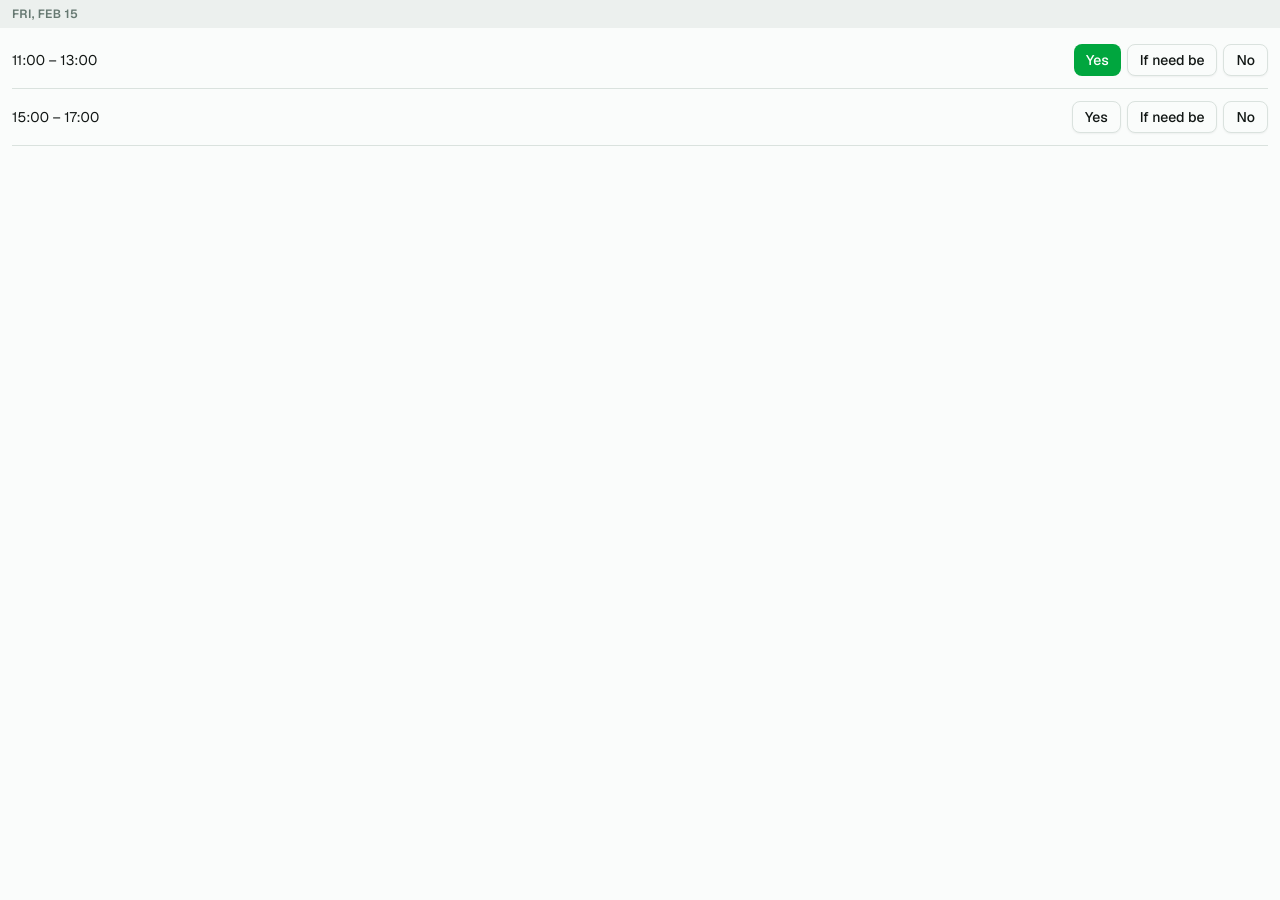
Test: AvailabilityForm – warn mode › shows confirmation dialog when downgrading assigned slot to no
# Change slot-1 from yes to no
Click the button "No" in the row of "13:00" at (1246, 60), box [1224,44,1268,76]
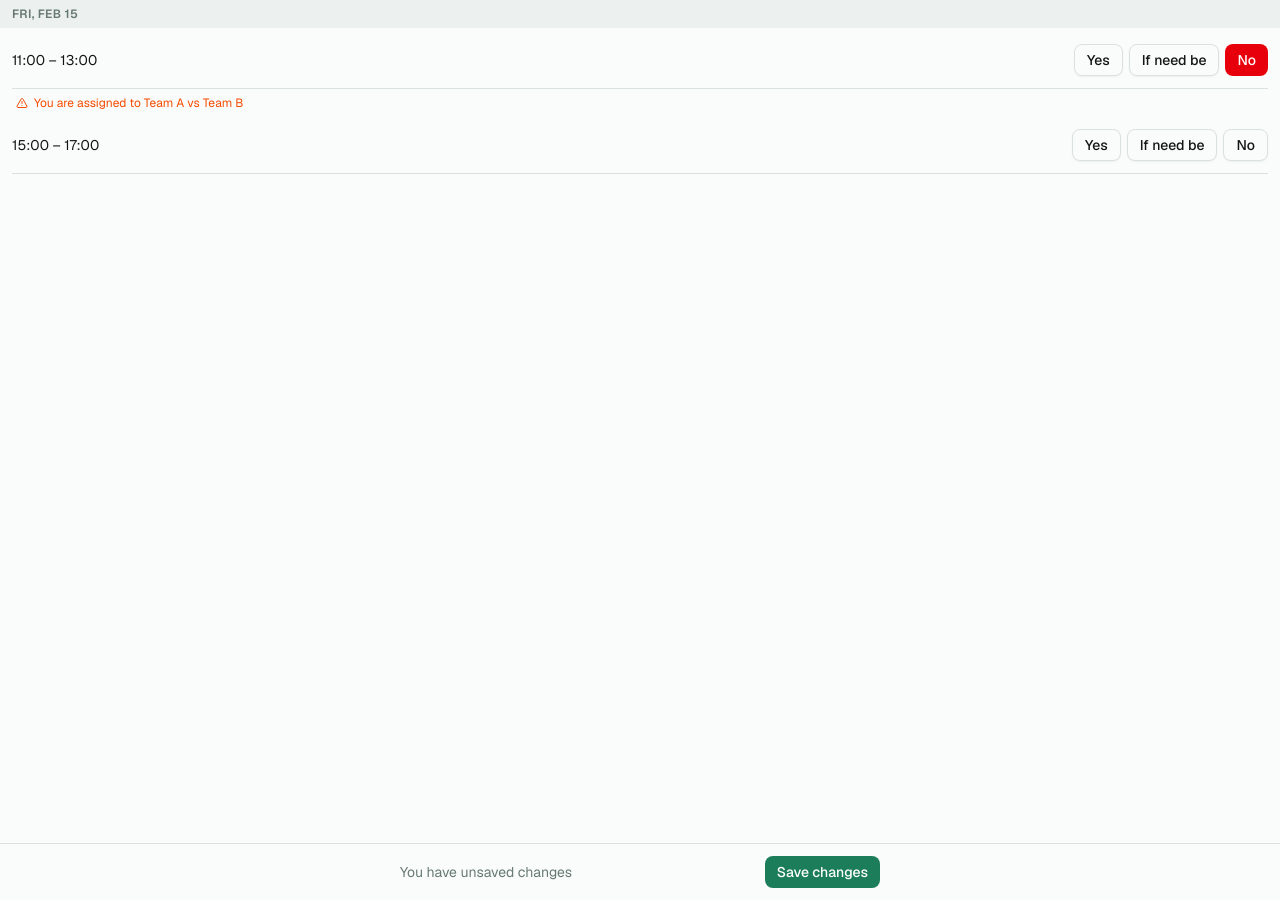
# Try to save — should show the dialog instead
Click the button "Save changes" at (822, 872), box [765,856,880,888]
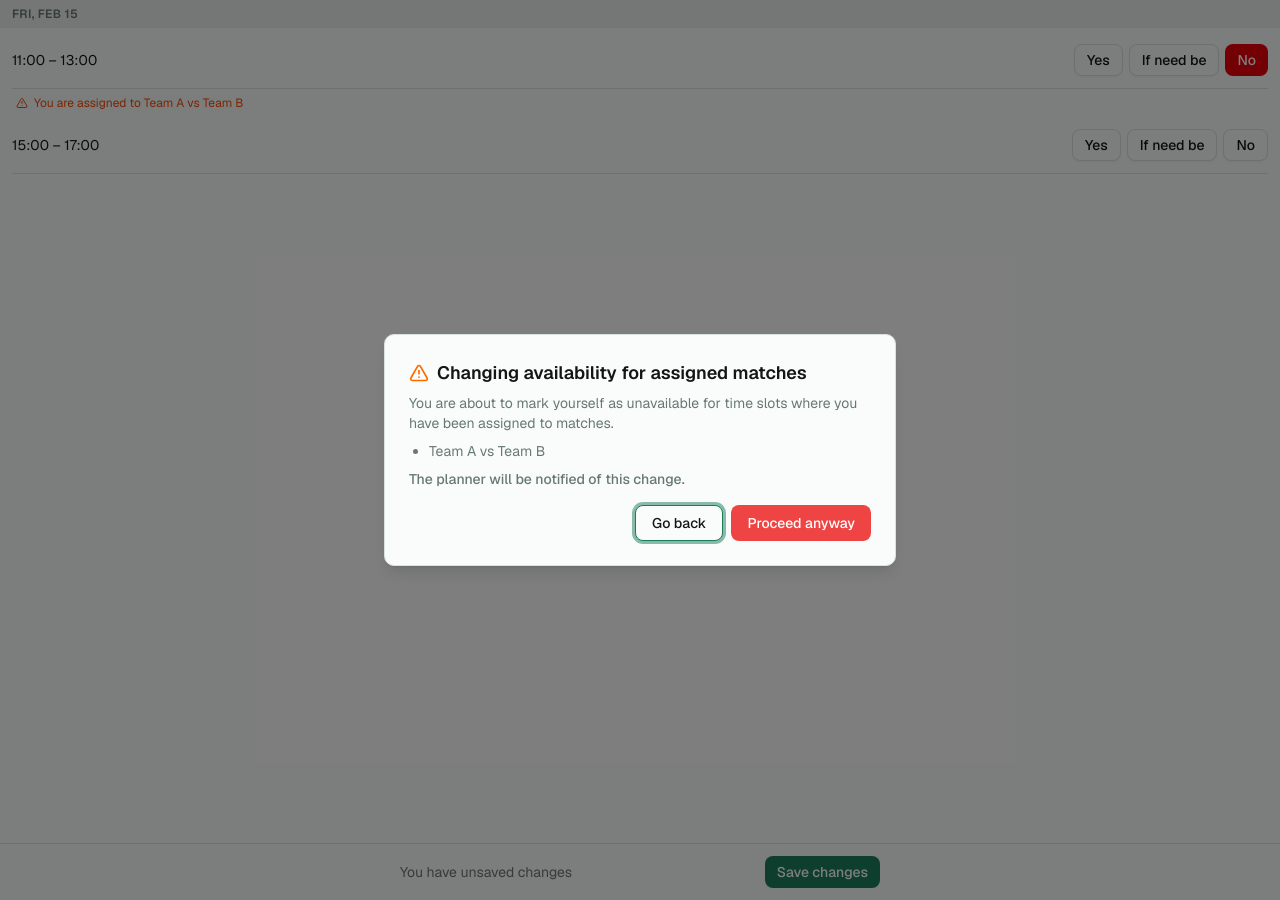
Expected: the heading "Changing availability for assigned matches" is shown, [409,359,807,387]
Expected: the list item "Team A vs Team B" is shown, [429,442,545,460]
Expected: the text "The planner will be notified of this change." is shown, [409,470,685,488]
